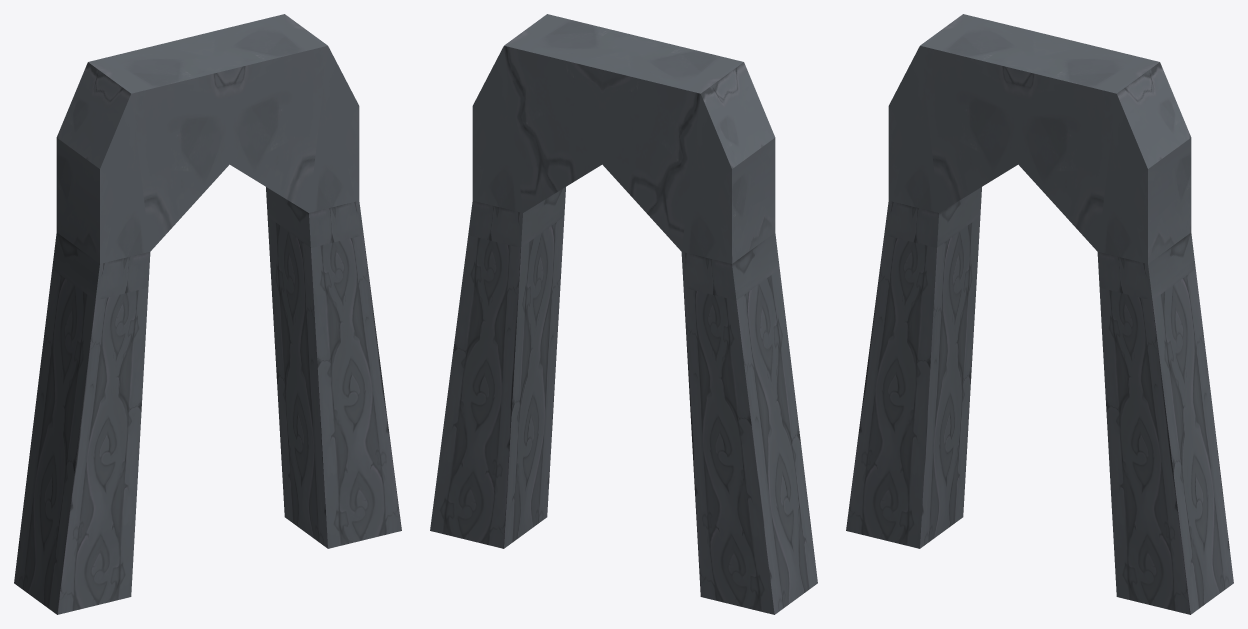
Rendered from Tugu.fbx.
The picture shows the model from 3 angles, left to right: view 1: azimuth 30°, elevation 25°; view 2: azimuth 150°, elevation 25°; view 3: azimuth 330°, elevation 25°; orthographic projection.
Visible parts, largest first — view 1: Cube.001; view 2: Cube.001; view 3: Cube.001.
Boxes of the visible parts, x1,y1,x2,y2 form: Cube.001: [14, 14, 401, 614]; Cube.001: [430, 14, 817, 614]; Cube.001: [846, 14, 1233, 614].
Size of the model in its own units: 212 by 296 by 46.19.
